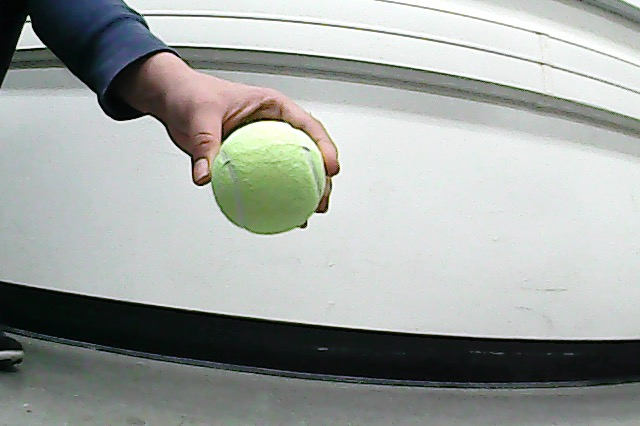ball: (213, 121, 327, 236)
